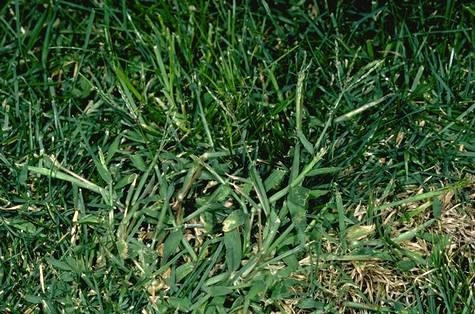crabgrass: (86, 92, 363, 313)
